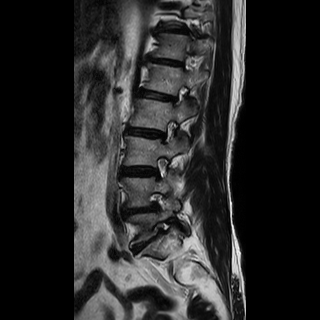RFS0: (147, 150, 180, 186), (152, 114, 185, 150), (163, 79, 193, 114)
RFS2: (142, 187, 173, 216)
RFS3: (145, 217, 174, 245)
